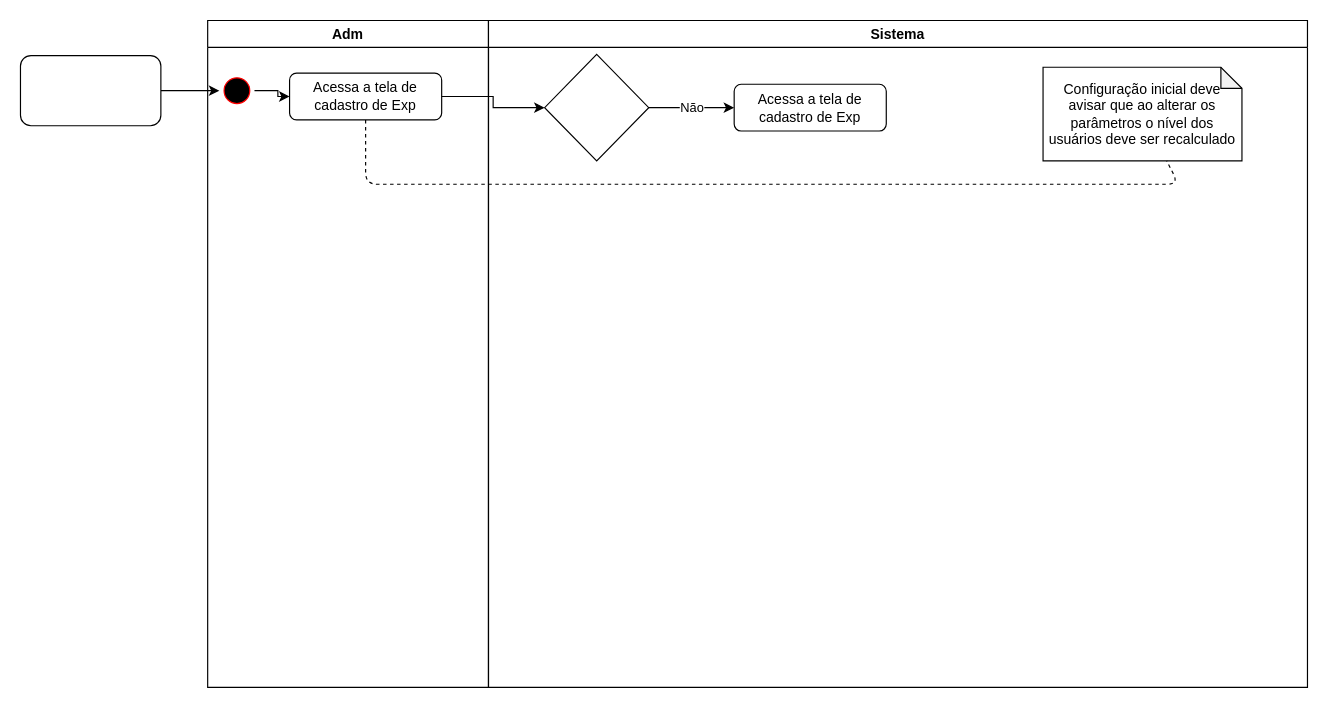
Some shapes in this 1328 by 708 pixel diagram are drawn without their labels. The shapes that lost their labels are listed below. From the top down, each one's centre as x and y in pixels, then its label:
At (90,90): "UC10 Cadastro dos parâmetros de Exp".
At (596,107): "Há configuração anterior".
